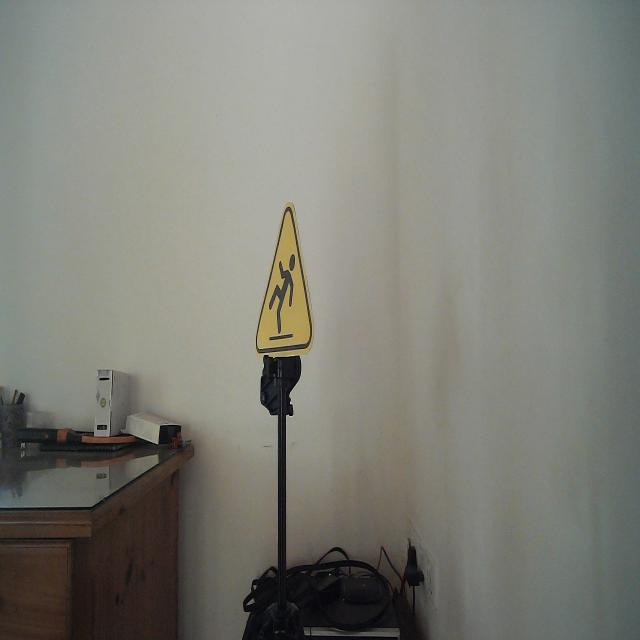slippery_sign: (252, 198, 316, 360)
